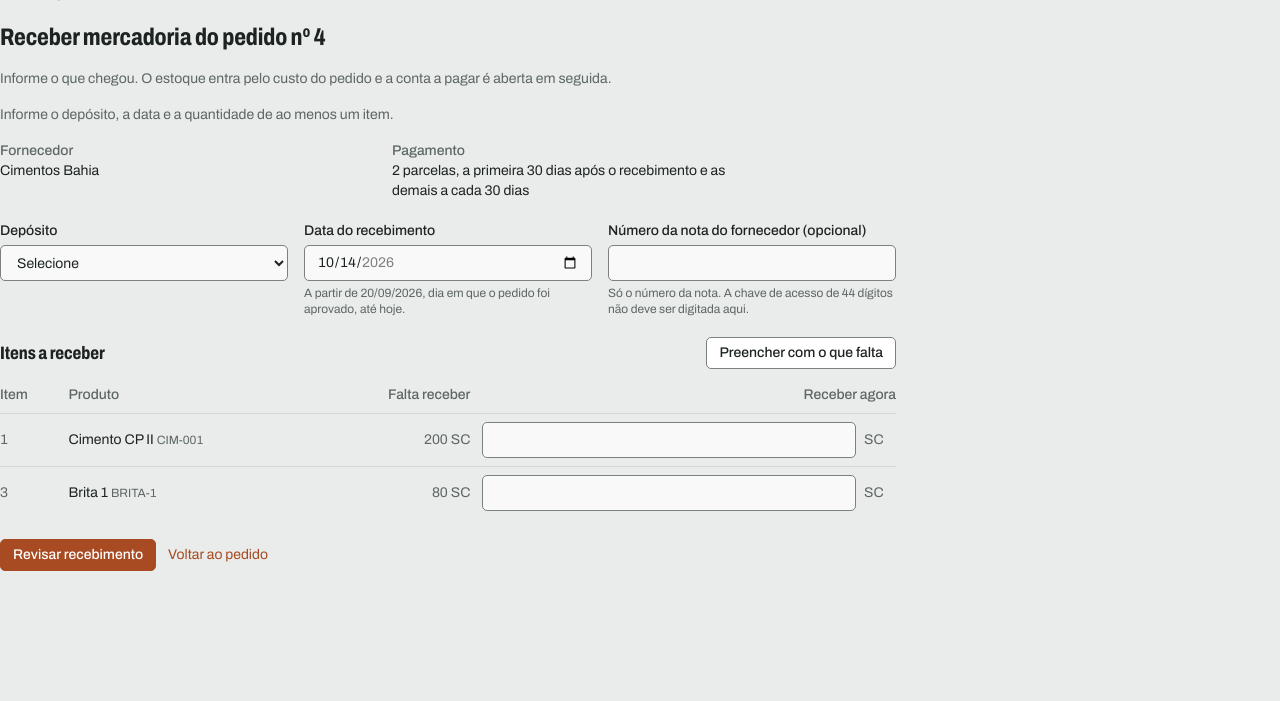
Test case: ReceiveGoodsScreen › goes to the review, not to the API, when Enter is pressed in a field
Select "Loja" in the dropdown labelled "Depósito": (144, 263) [0,245,288,281]
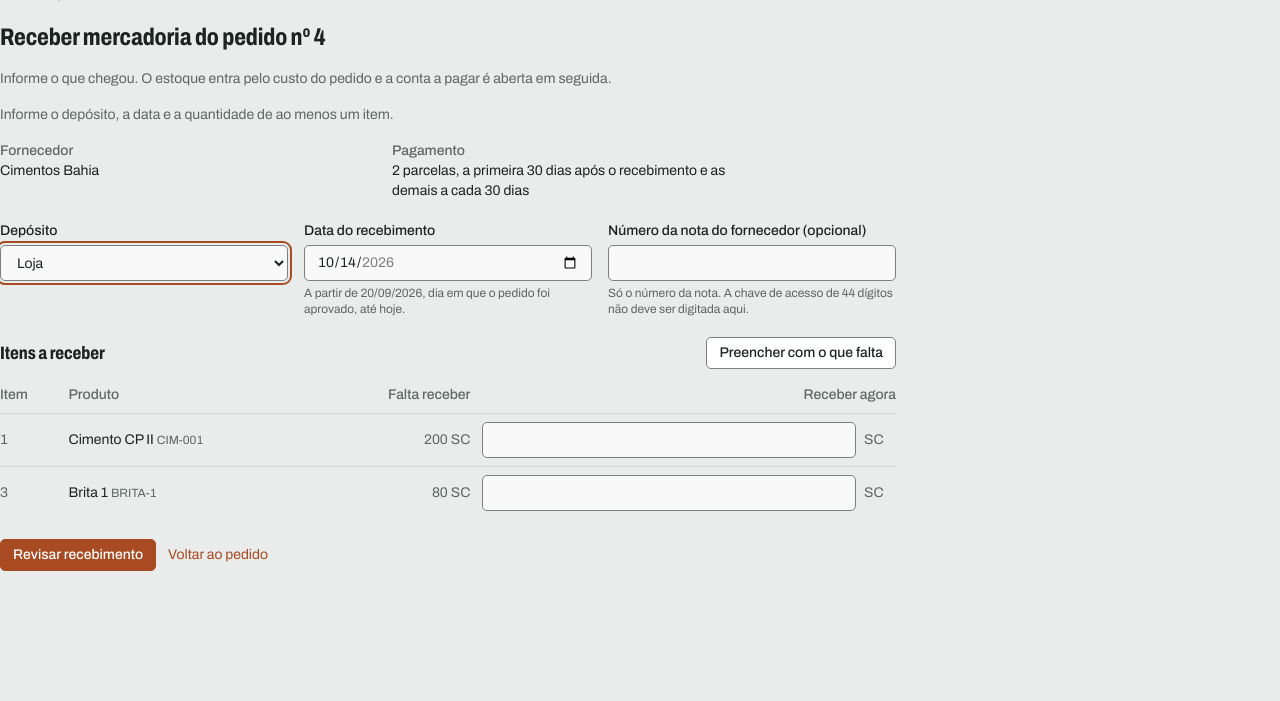
In the field named "Quantidade a receber, item 1: Cimento CP II": (669, 440) [482,422,856,458], type "10"
Then press Enter
(page scrolled)
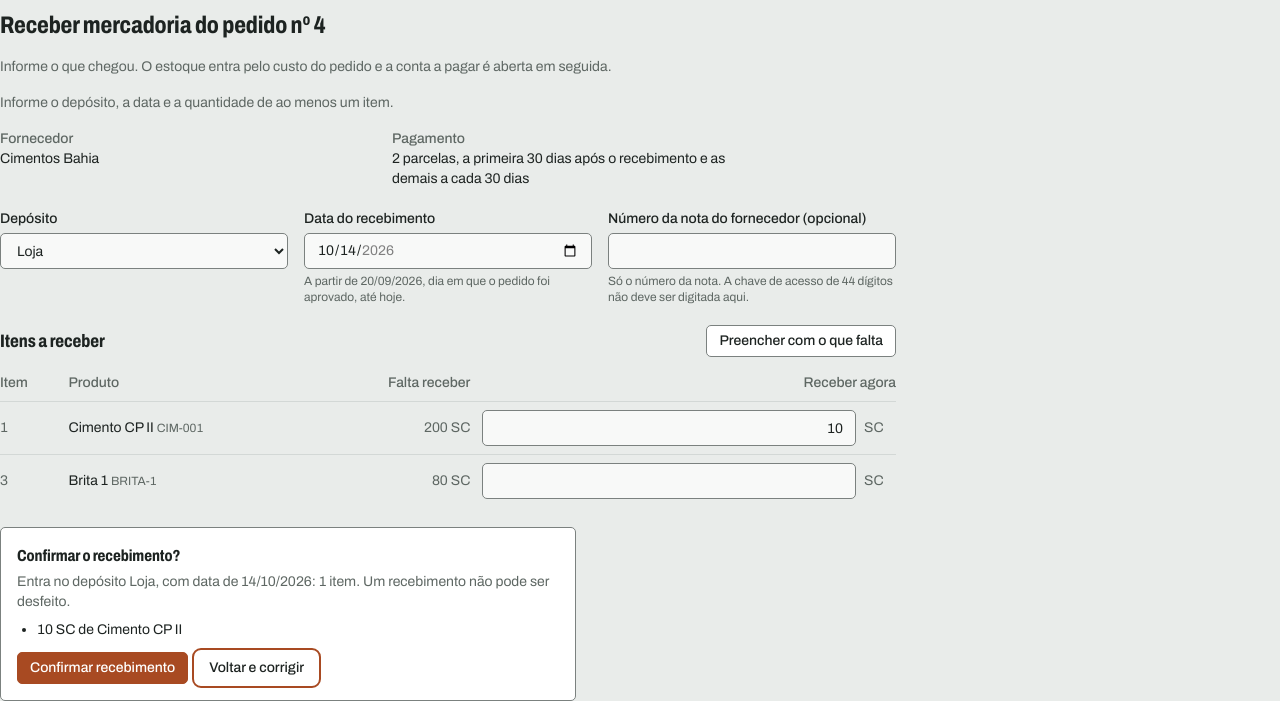
Now the dialog is shown, box [0,527,576,700]
